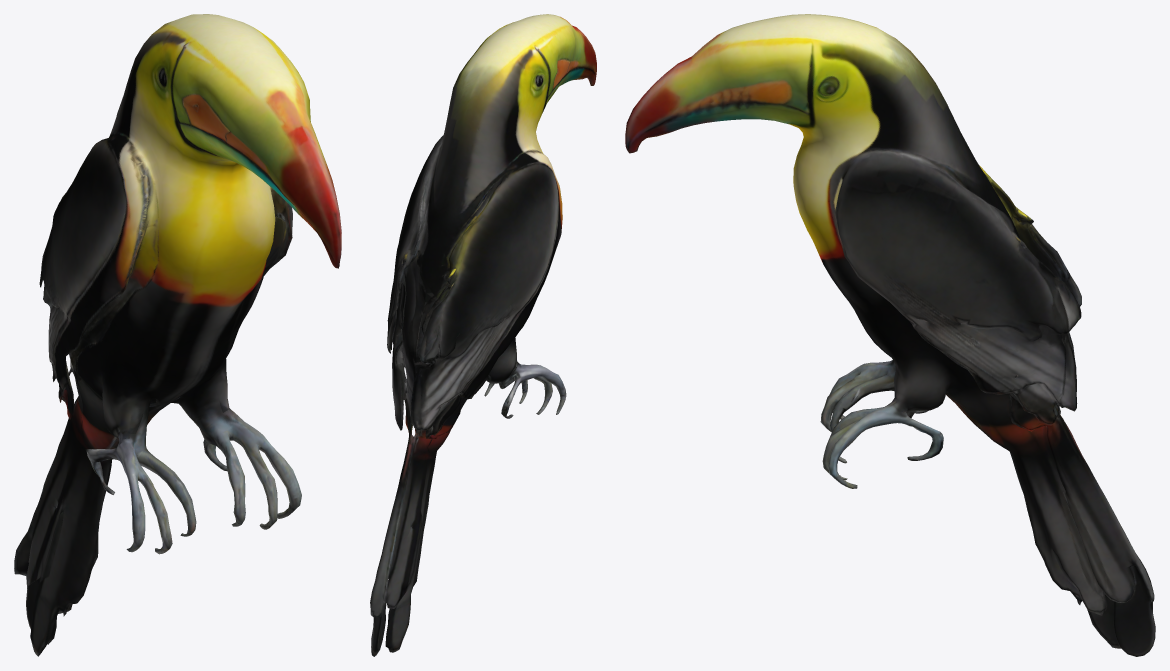
Rendered from toucan.glb.
3 renders of one model, left to right at view 1: azimuth 30°, elevation 25°; view 2: azimuth 150°, elevation 25°; view 3: azimuth 270°, elevation 25°, orthographic. The views are drawn at different scales.
Visible parts, largest first — view 1: Colorful_Toucan_0202065337_textureobjcleanermaterialmergergl; view 2: Colorful_Toucan_0202065337_textureobjcleanermaterialmergergl; view 3: Colorful_Toucan_0202065337_textureobjcleanermaterialmergergl.
Part boxes in pixels (box(x1,y1,x2,y2)): Colorful_Toucan_0202065337_textureobjcleanermaterialmergergl: box(14, 14, 341, 656); Colorful_Toucan_0202065337_textureobjcleanermaterialmergergl: box(370, 14, 596, 656); Colorful_Toucan_0202065337_textureobjcleanermaterialmergergl: box(625, 14, 1155, 656).
Bounding box in the file's own units: 0.1392 × 0.5217 × 0.3954.
1 material, 1 textured.
